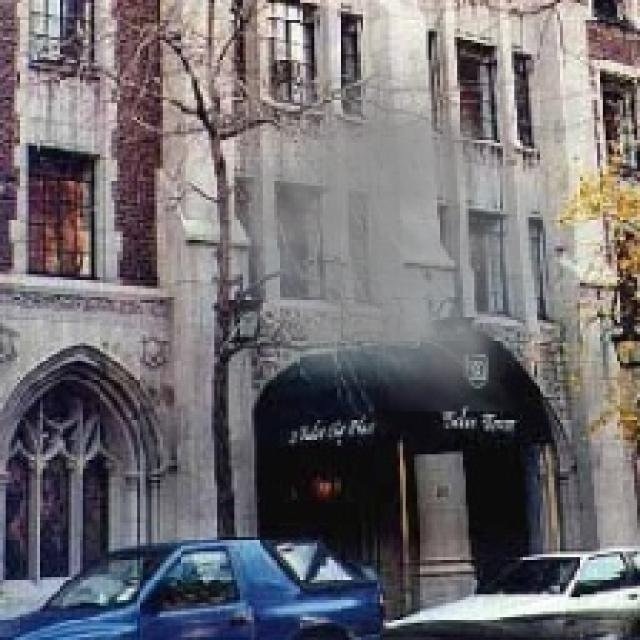Smoke: (177, 26, 589, 412)
